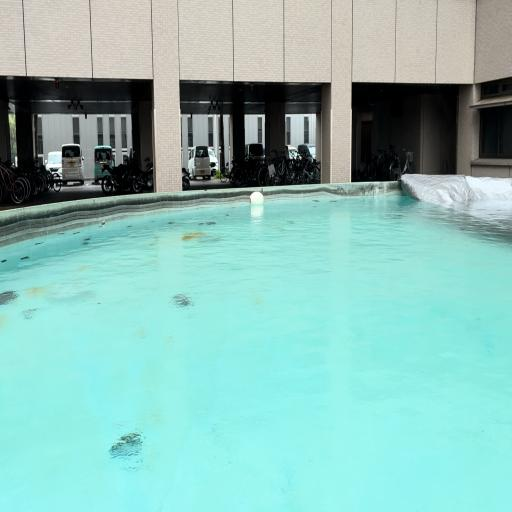white buoy: (250, 191, 264, 204)
